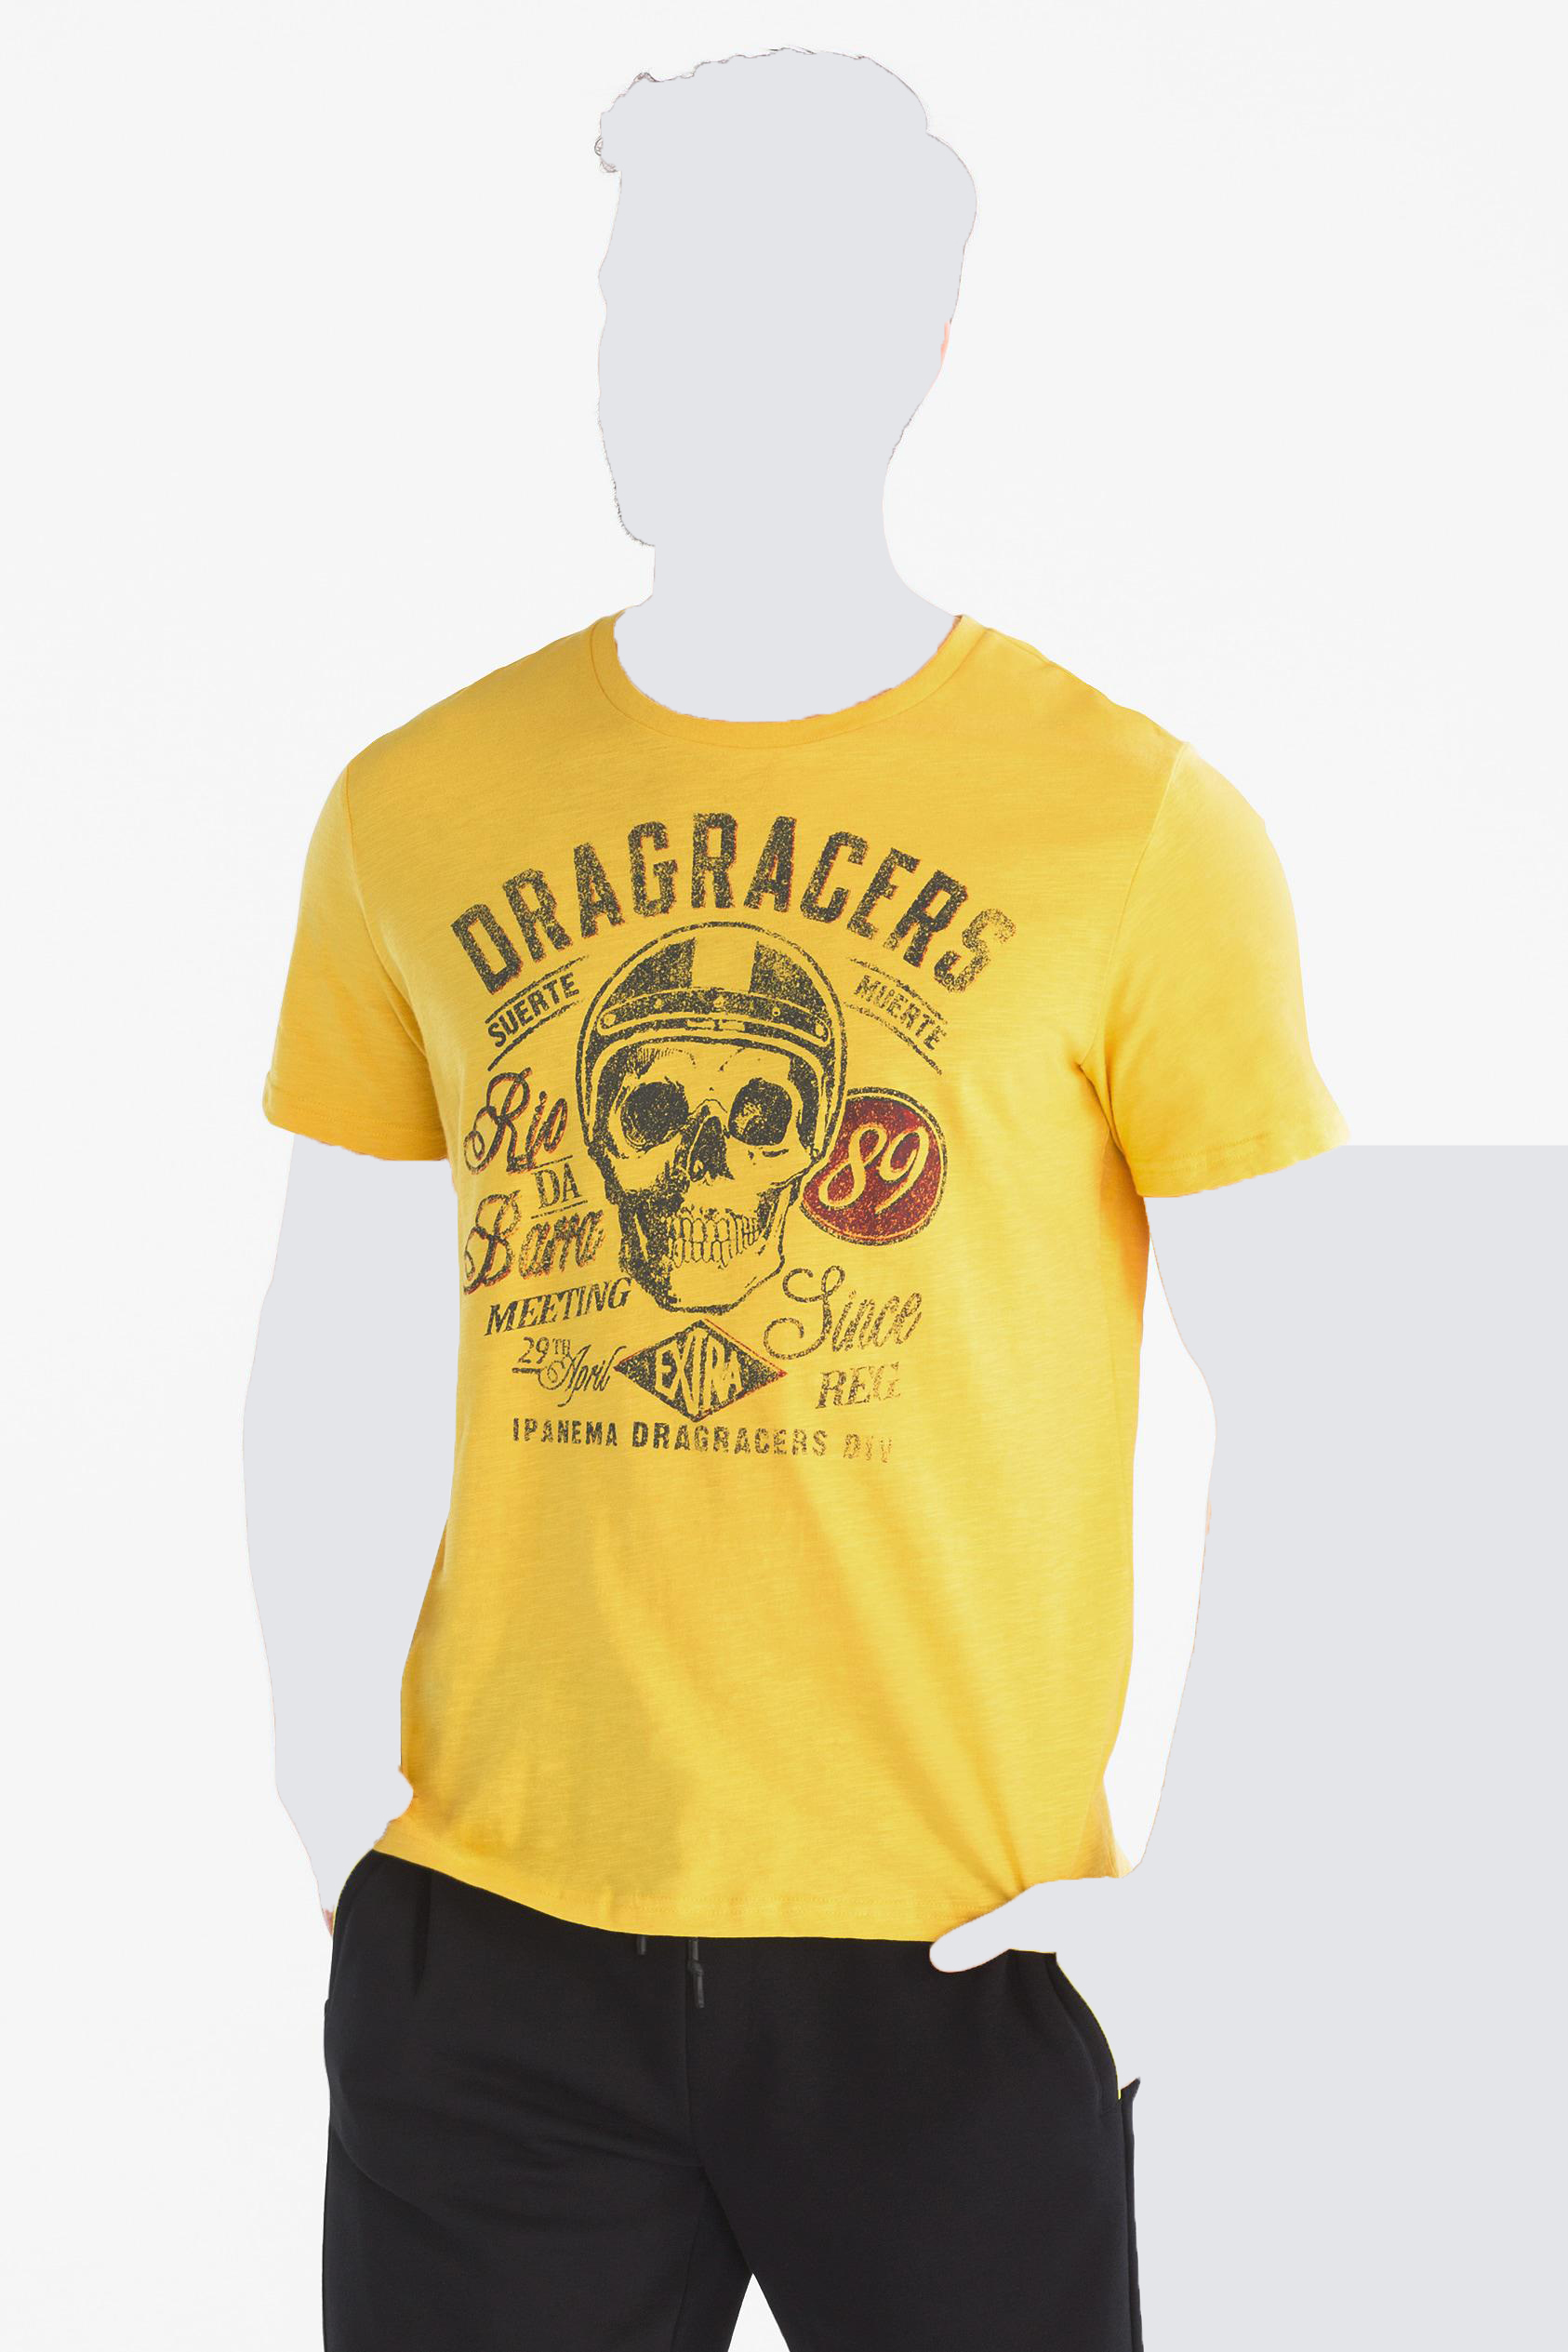teeshirt: (242, 600, 1337, 1970)
